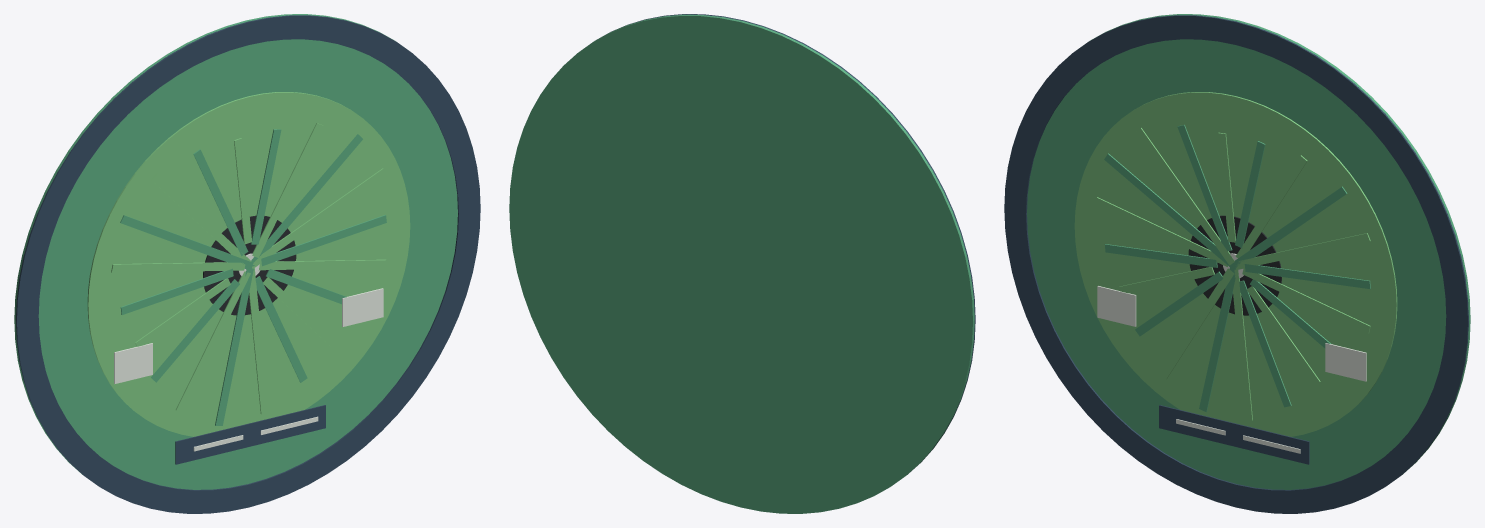
Rendered from disc_rug.glb.
3 renders of one model, left to right at view 1: azimuth 30°, elevation 25°; view 2: azimuth 150°, elevation 25°; view 3: azimuth 330°, elevation 25°, orthographic.
Parts seen in each view (by area): view 1: disc_rug; view 2: disc_rug; view 3: disc_rug.
Part boxes in pixels (bbox=[...]): disc_rug: bbox=[14, 14, 480, 513]; disc_rug: bbox=[509, 14, 975, 513]; disc_rug: bbox=[1004, 14, 1470, 513].
Bounding box in the file's own units: 1.7 × 1.7 × 0.0343.
